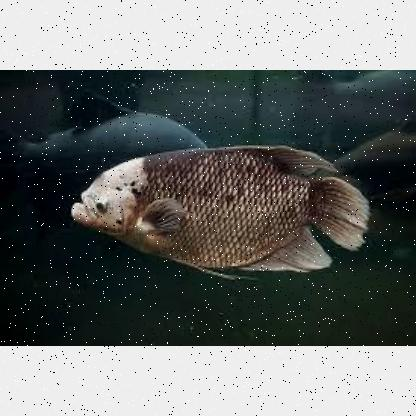gurame: (68, 146, 344, 278)
